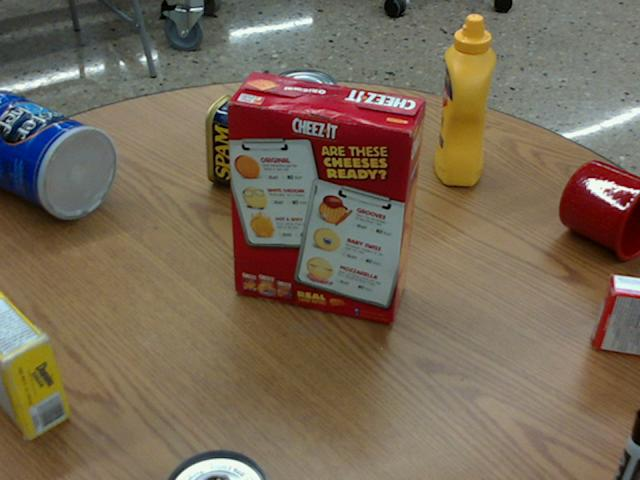cracker_box: (228, 71, 426, 320)
gelatin_box: (594, 276, 639, 356)
large_marker: (618, 420, 639, 479)
master_chef_can: (0, 89, 119, 218)
mug: (559, 160, 639, 260)
mustard_bottle: (435, 14, 496, 184)
potted_meat_can: (206, 92, 294, 196)
sugar_box: (0, 285, 72, 436)
tomato_soup_can: (171, 449, 271, 479)
tuna_fish_can: (273, 67, 338, 120)
